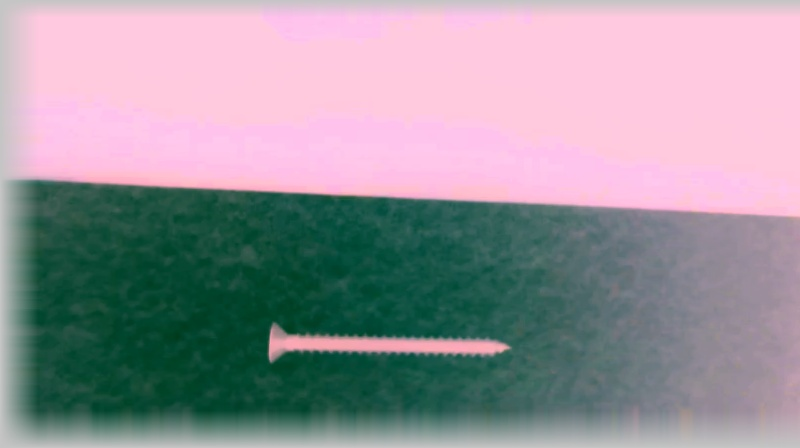S002: (263, 320, 514, 370)
